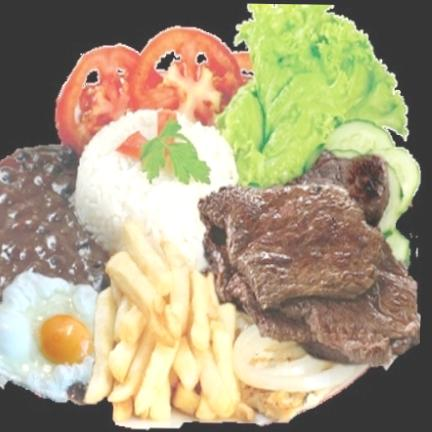beans: (0, 142, 109, 294)
cucumber: (324, 122, 420, 267)
egg: (0, 272, 96, 395)
meat: (196, 149, 421, 364)
potato: (84, 225, 242, 421)
rice: (73, 111, 237, 267)
salad: (212, 4, 407, 183)
tomato: (56, 29, 253, 155)
